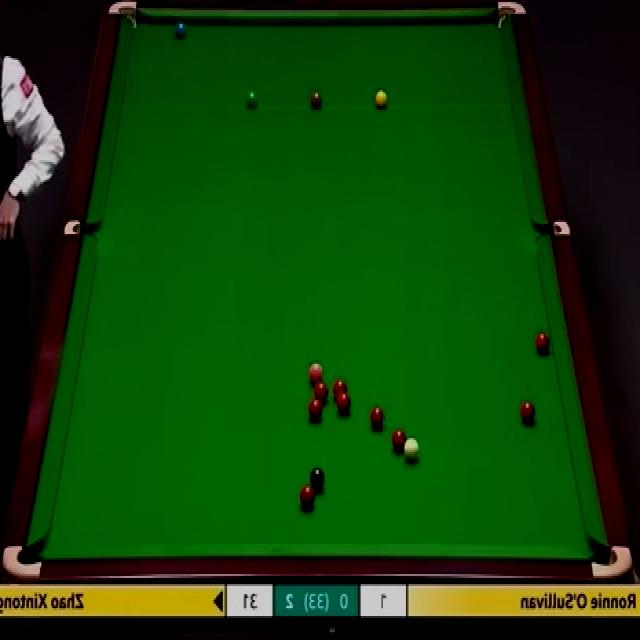black-ball: (309, 466, 326, 495)
blue-ball: (172, 18, 188, 43)
brown-ball: (309, 91, 323, 111)
green-ball: (244, 90, 258, 112)
pink-ball: (308, 361, 326, 385)
red-ball: (520, 397, 538, 427), (390, 429, 408, 456), (299, 485, 316, 510), (368, 408, 384, 432), (336, 393, 352, 416), (536, 331, 551, 355), (332, 379, 349, 400), (308, 398, 323, 420), (313, 382, 329, 402)
white-ball: (401, 436, 422, 466)
yellow-ball: (374, 90, 388, 110)
